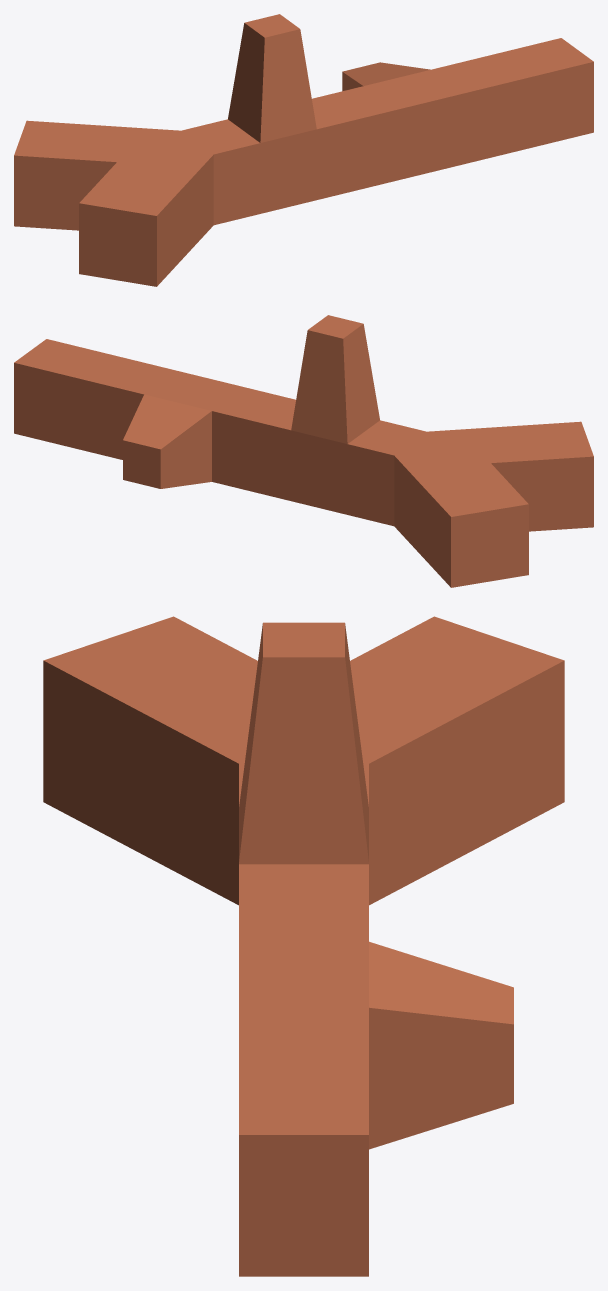
The model's file is resource-wood.obj.
3 views of the same model, one above another, from view 1: azimuth 30°, elevation 25°; view 2: azimuth 150°, elevation 25°; view 3: azimuth 270°, elevation 25° (orthographic). The views are drawn at different scales.
Bounding box in the file's own units: 0.205 × 0.0624 × 0.0871.
